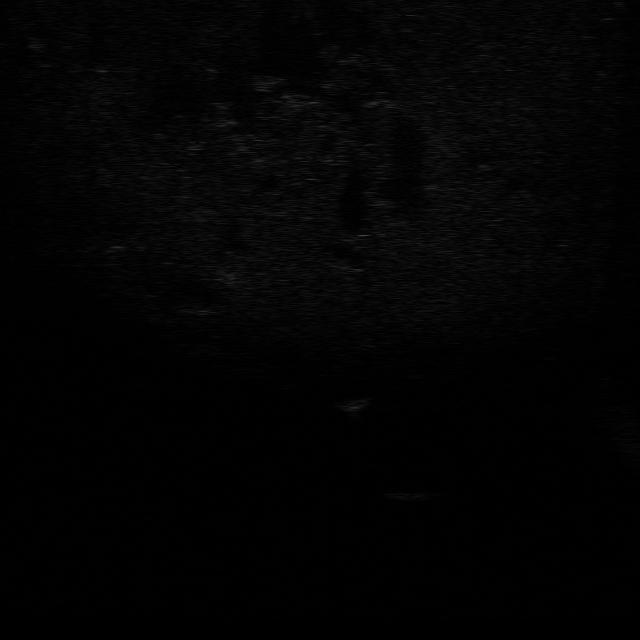cube: (383, 488, 435, 504)
square cage: (334, 394, 375, 414)
